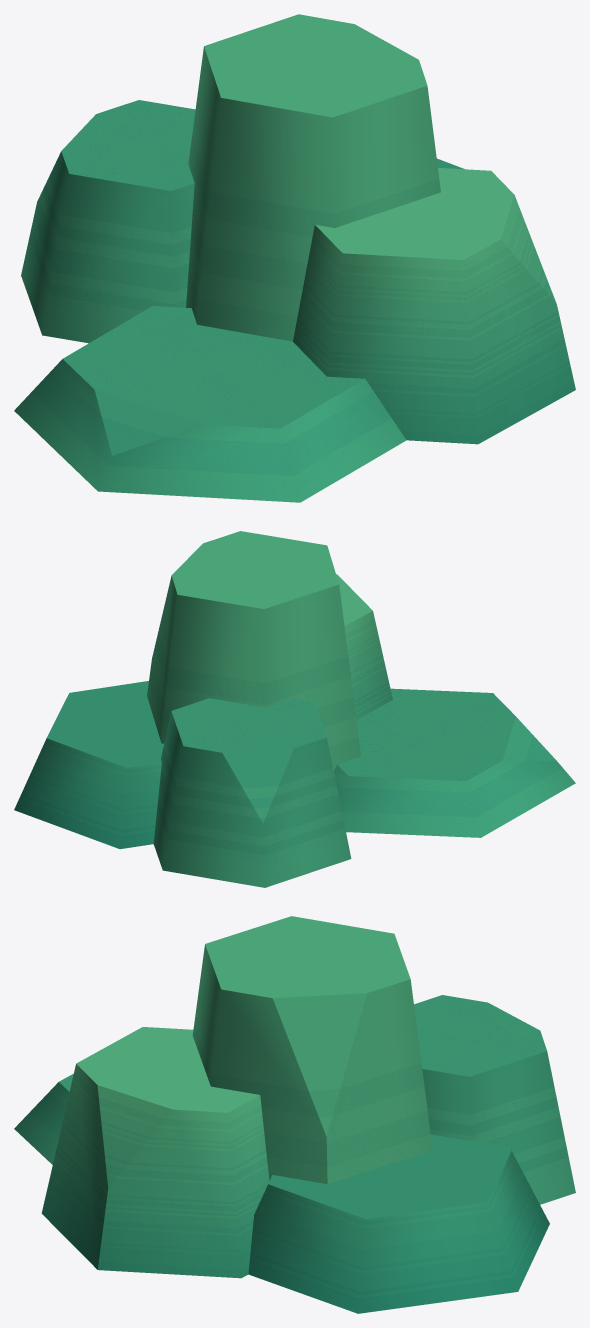
Rendered from td-rocks-large.glb.
3 views of the same model, one above another, from view 1: azimuth 30°, elevation 25°; view 2: azimuth 150°, elevation 25°; view 3: azimuth 270°, elevation 25° (orthographic). The views are drawn at different scales.
Parts seen in each view (by area): view 1: detail-rocks-large; view 2: detail-rocks-large; view 3: detail-rocks-large.
Part boxes in pixels (left/top/right/bottom): detail-rocks-large: left=14, top=14, right=575, bottom=502; detail-rocks-large: left=14, top=531, right=575, bottom=887; detail-rocks-large: left=14, top=916, right=575, bottom=1313.
Bounding box in the file's own units: 0.8922 × 0.4145 × 0.8593.
Materials: 1 (1 with a texture image).
